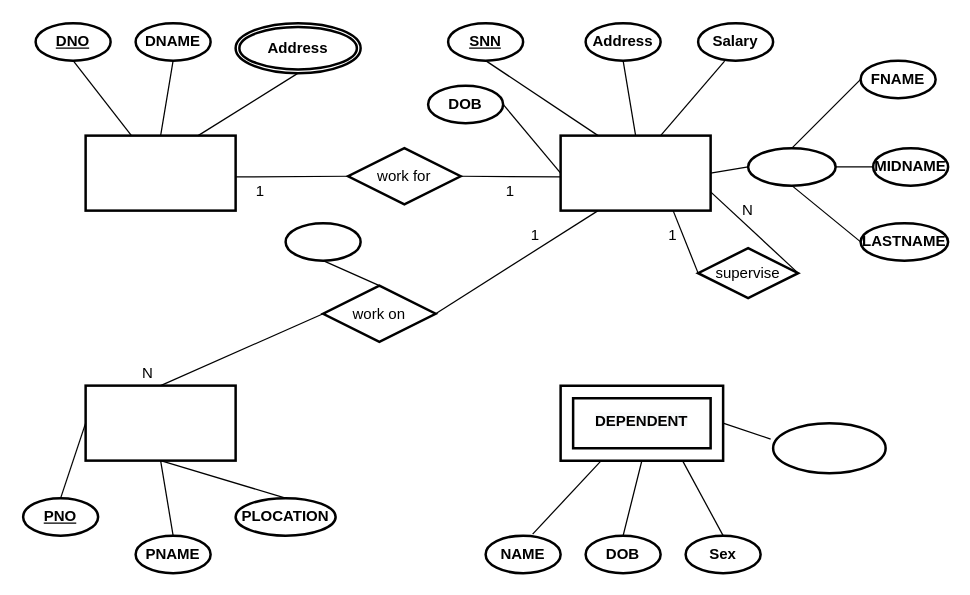
Image size: 970x595. Some labels were removed from this diagram. The centre of each missing label's shape, as x and y in pixels:
"DEPARTMENT" goes at [160,172].
"EMPLOYEE" goes at [635,172].
"FULLNAME" goes at [791,166].
"Hours" goes at [322,241].
"PROJECT" goes at [160,422].
"Relationshop Type" goes at [828,447].
